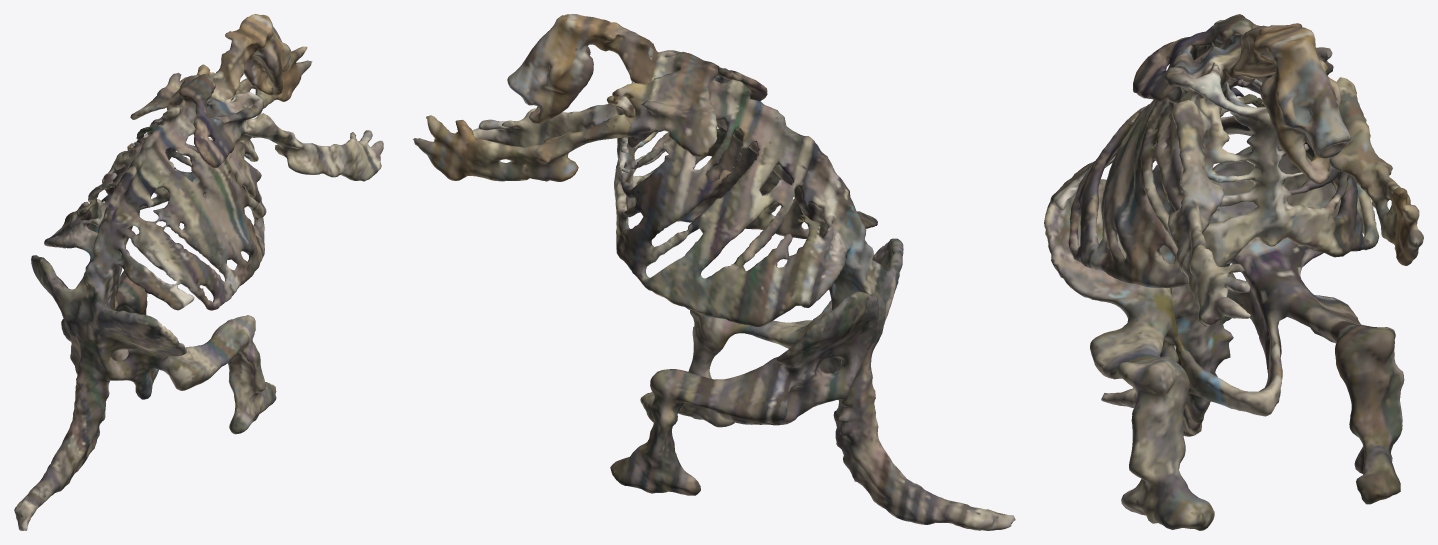
File: Pere2.glb
3 views of the same model, side by side, from view 1: azimuth 30°, elevation 25°; view 2: azimuth 150°, elevation 25°; view 3: azimuth 270°, elevation 25° (orthographic). The views are drawn at different scales.
Visible parts, largest first — view 1: Object_3; view 2: Object_3; view 3: Object_3.
Boxes of the visible parts, x1,y1,x2,y2 form: Object_3: [14, 14, 383, 530]; Object_3: [413, 14, 1015, 530]; Object_3: [1044, 14, 1423, 530].
Bounding box in the file's own units: 2.33 × 2.16 × 1.27.
